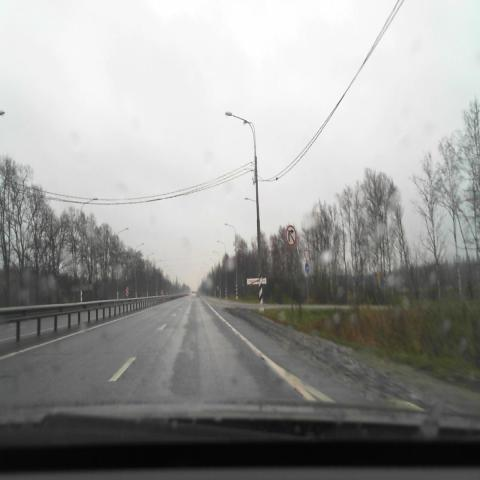3_18: (286, 224, 296, 246)
